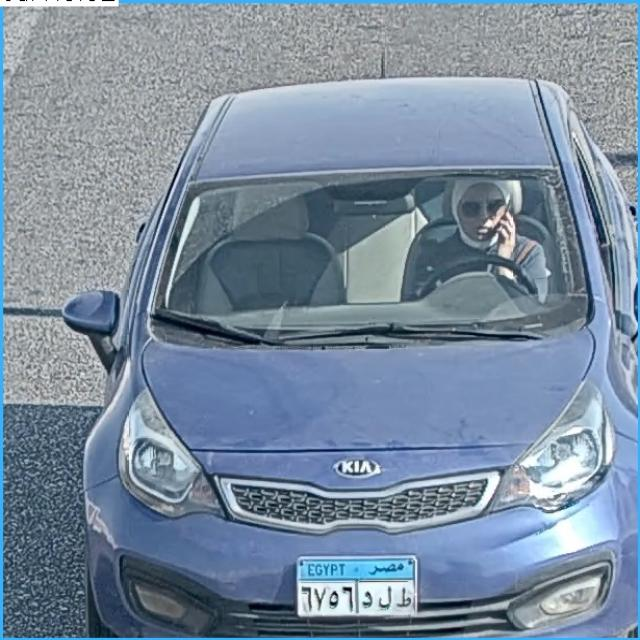windshield: (149, 162, 599, 348)
